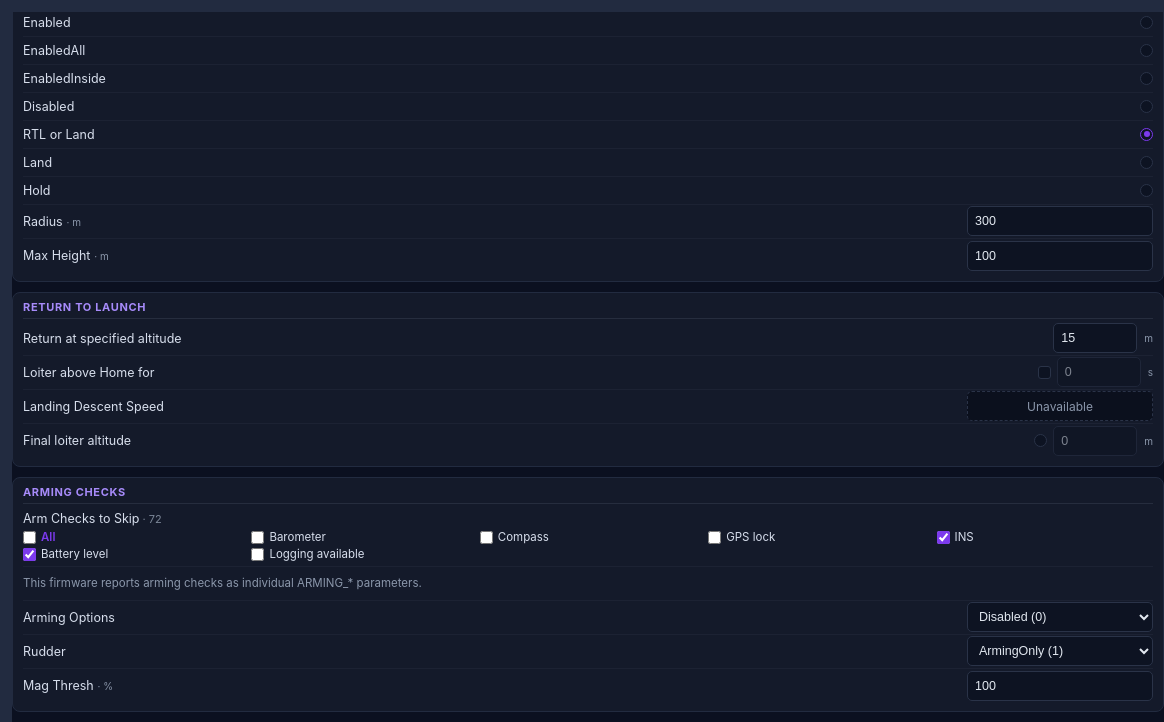
Test: SetupSafety — compact configuration form layout › prefers a positive minimum over an increment step when switching on
This screenshot has width=1164, height=722.
(page scrolled)
Click the checkbox with test id "safety-rtl-loittime-toggle".
click(1044, 372)  # box [1038,366,1051,379]
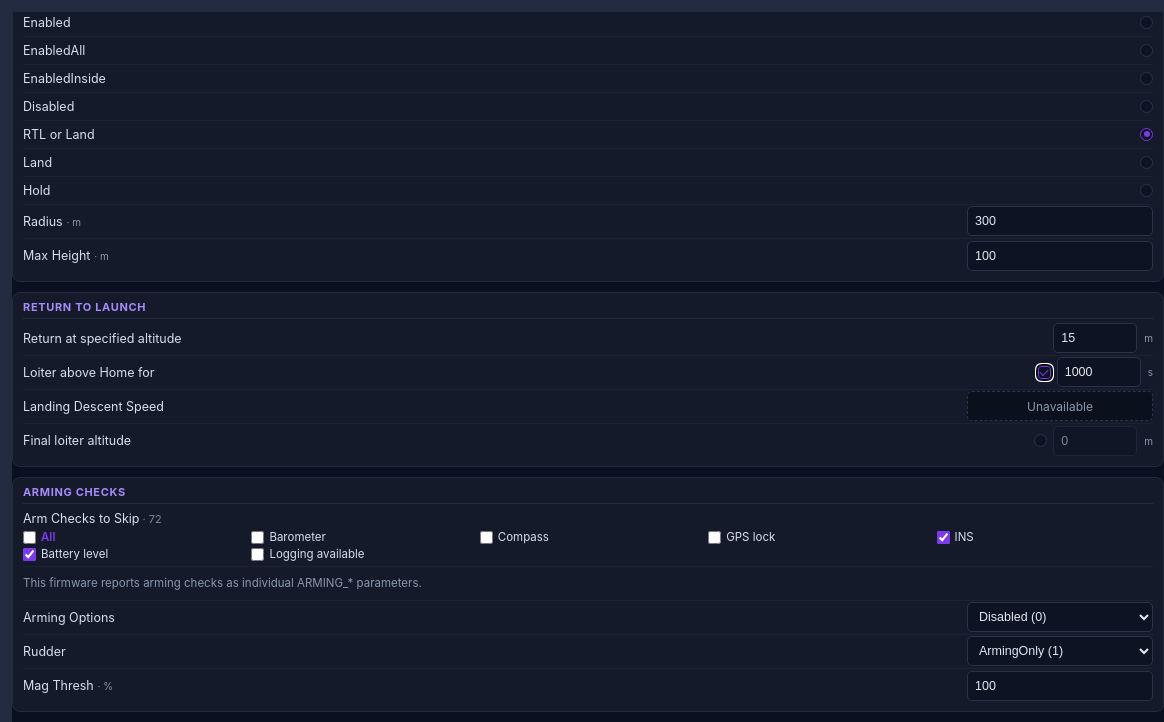
Expected: the number field with test id "safety-rtl-loittime" holds "1000", [1057,357,1141,387]
